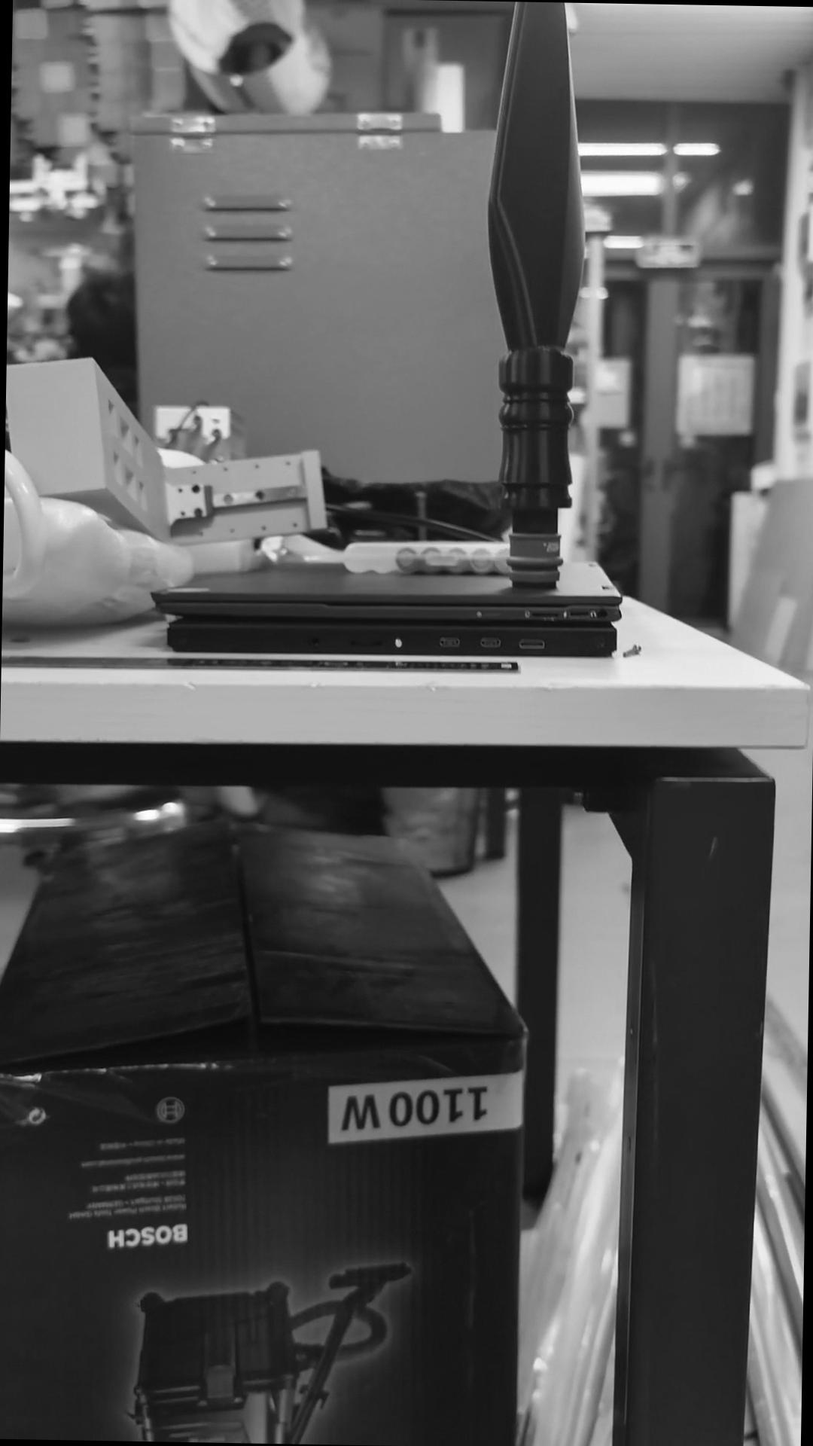base: (506, 530, 563, 592)
